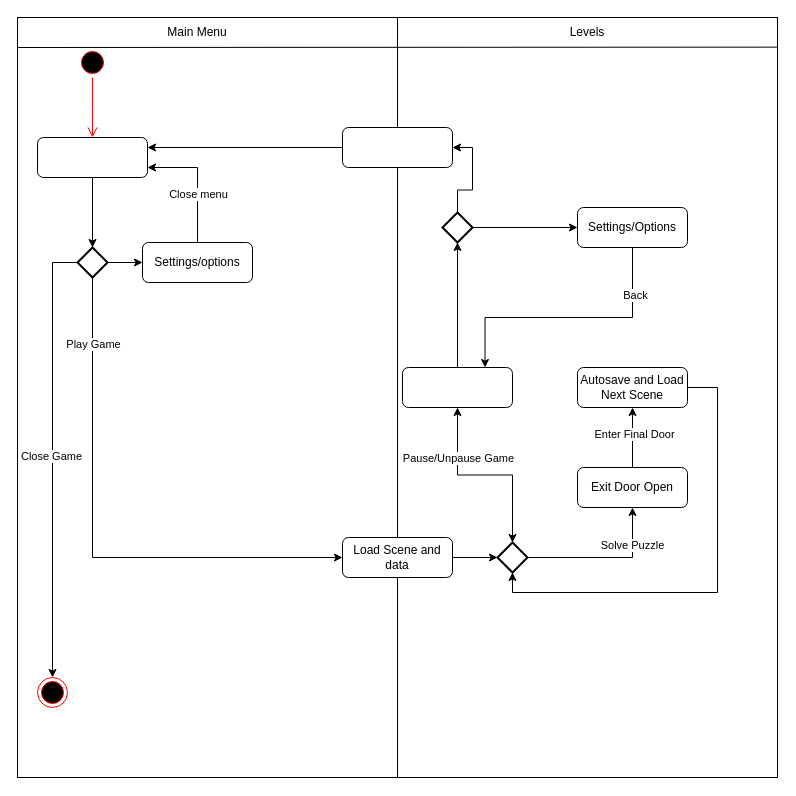
Some shapes in this 796 by 796 pixel diagram are drawn without their labels. Each missing label, with the centre of its shape:
"Pause Menu" goes at (457,387).
"Save and Quit" goes at (397,147).
"Title Screen" goes at (92,157).
